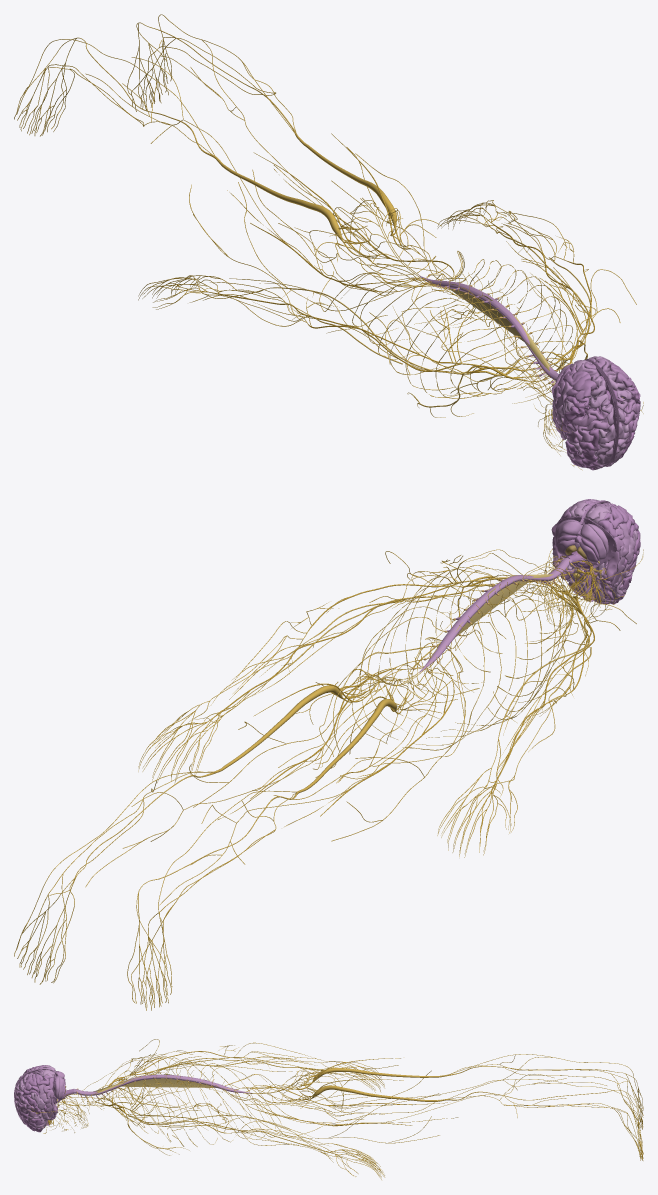
File: nervous.glb
3 renders of one model, top to bottom at view 1: azimuth 30°, elevation 25°; view 2: azimuth 150°, elevation 25°; view 3: azimuth 270°, elevation 25°, orthographic. The views are drawn at different scales.
Parts seen in each view (by area): view 1: 右侧肋间神经, 左侧肋间神经, 脊髓硬膜, 脊髓白质, 右侧坐骨神经, 左侧坐骨神经; view 2: 右侧肋间神经, 左侧肋间神经, 脊髓硬膜, 左侧坐骨神经, 脊髓白质, 右侧坐骨神经; view 3: 脊髓硬膜, 脊髓白质, 右侧肋间神经, 左侧肋间神经, 左侧坐骨神经, 右侧坐骨神经, 右侧隐神经, 左侧隐神经, 左侧股外侧皮神经, 左侧股神经, 左侧正中神经, 左侧尺神经 (+6 smaller).
Boxes of the visible parts, <box> form: 右侧肋间神经: <box>352,277,526,398</box>; 左侧肋间神经: <box>402,259,572,389</box>; 脊髓硬膜: <box>418,275,558,382</box>; 脊髓白质: <box>430,280,552,371</box>; 右侧坐骨神经: <box>215,157,376,257</box>; 左侧坐骨神经: <box>298,137,408,248</box>; 右侧肋间神经: <box>402,580,573,750</box>; 左侧肋间神经: <box>352,565,511,743</box>; 脊髓硬膜: <box>419,558,573,672</box>; 左侧坐骨神经: <box>216,682,377,772</box>; 脊髓白质: <box>428,574,553,664</box>; 右侧坐骨神经: <box>299,686,409,792</box>; 脊髓硬膜: <box>73,1074,251,1097</box>; 脊髓白质: <box>93,1074,238,1093</box>; 右侧肋间神经: <box>118,1057,281,1131</box>; 左侧肋间神经: <box>112,1079,280,1146</box>; 左侧坐骨神经: <box>283,1084,445,1102</box>; 右侧坐骨神经: <box>283,1068,445,1089</box>; 右侧隐神经: <box>328,1057,606,1108</box>; 左侧隐神经: <box>335,1074,605,1125</box>; 左侧股外侧皮神经: <box>246,1099,439,1143</box>; 左侧股神经: <box>237,1093,412,1125</box>; 左侧正中神经: <box>130,1110,335,1154</box>; 左侧尺神经: <box>126,1113,317,1144</box>.
Size of the model in its own units: 0.9833 by 0.3574 by 2.5.
